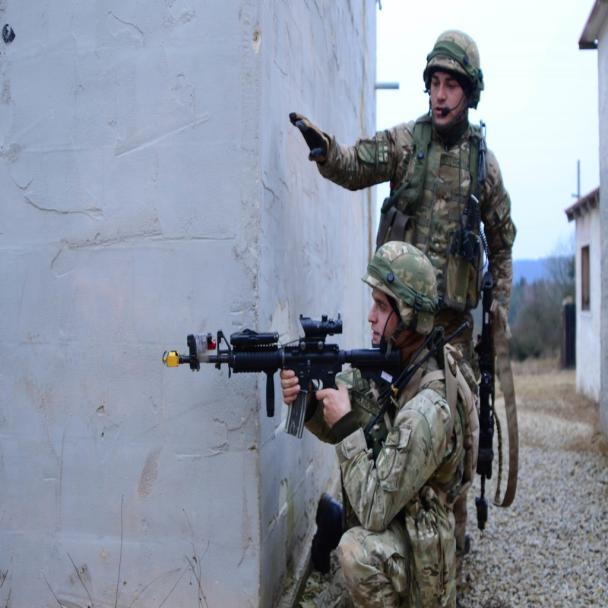Gun: (149, 302, 384, 432)
Hand: (313, 374, 368, 440), (278, 363, 300, 417)
